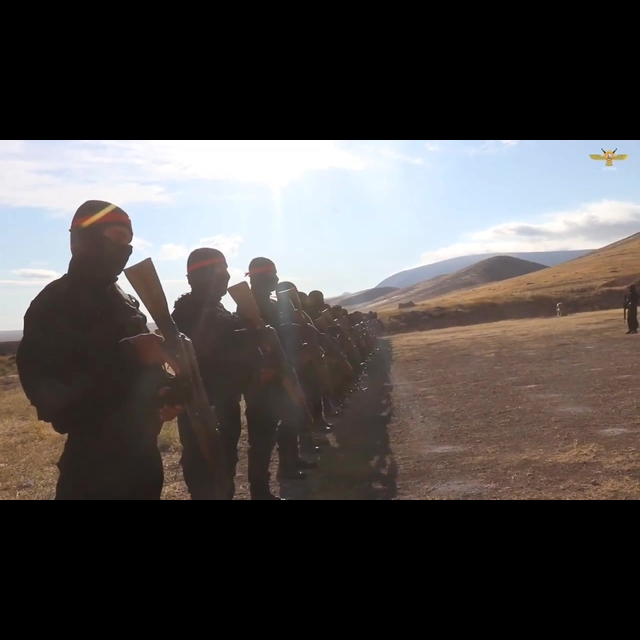AK47: (157, 335, 233, 484), (244, 322, 311, 427)
